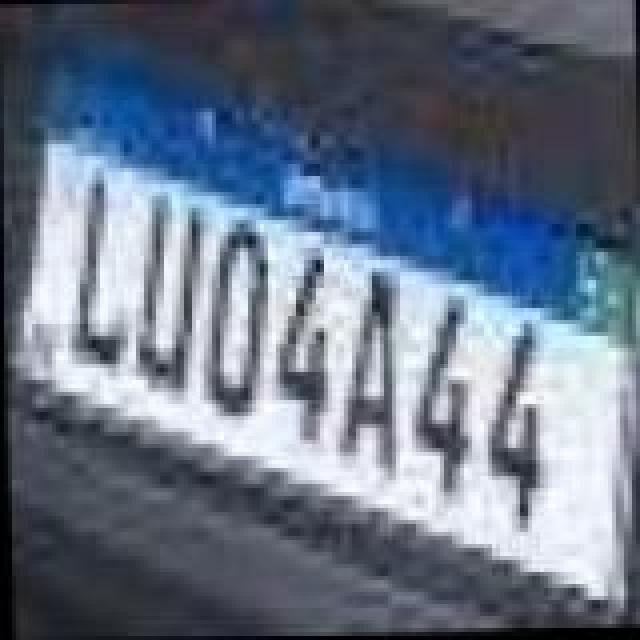4: (402, 292, 474, 500), (268, 240, 332, 448), (480, 326, 544, 534)
A: (328, 268, 400, 476)
L: (68, 176, 132, 372)
O: (202, 216, 286, 424)
U: (130, 188, 214, 396)
